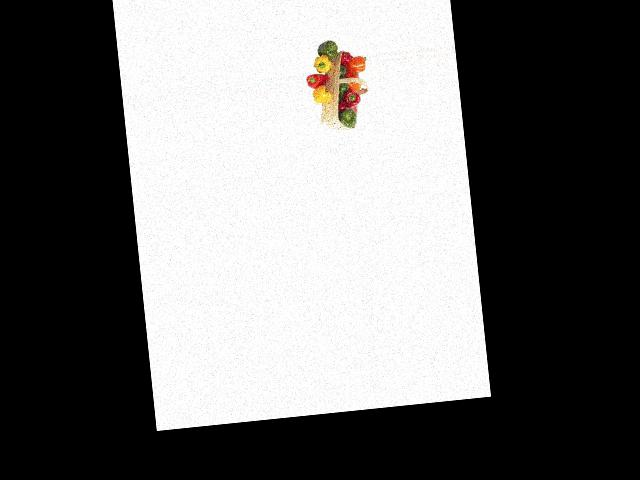bell_pepper: (339, 106, 358, 128)
